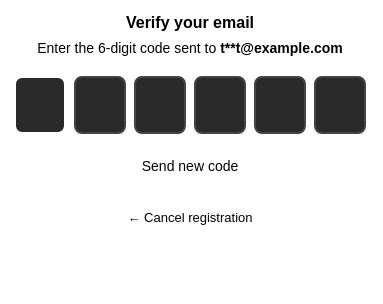
EmailVerification › shows error and keeps pending state when cancel returns unexpected status
Click the button "← Cancel registration" at (190, 218), box [120, 206, 260, 229]
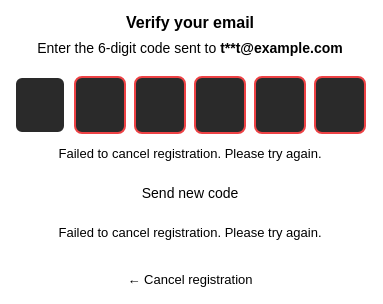
Check: the text "Failed to cancel registration. Please try again." is shown, box [58, 146, 322, 161]
